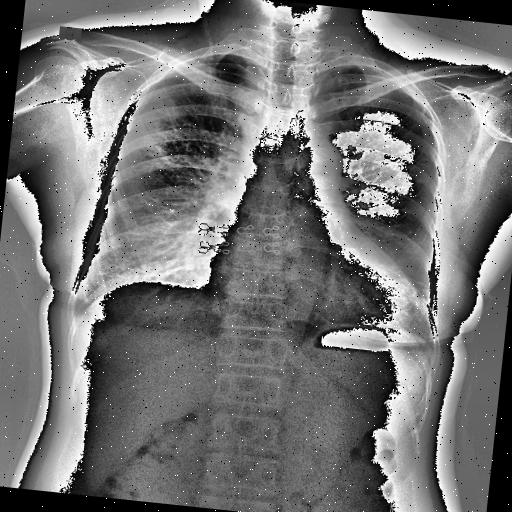10- Pleural effusion: (64, 304, 84, 326)
11- Pleural thickening: (386, 74, 424, 100), (64, 304, 84, 326)
3- Cardiomegaly: (201, 245, 422, 342), (202, 243, 420, 333), (200, 255, 427, 335)
